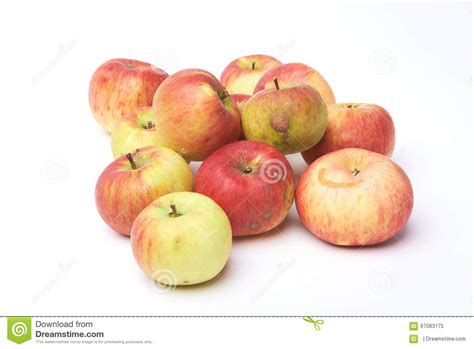apple: (296, 143, 416, 246), (128, 189, 234, 288), (192, 141, 300, 238), (93, 143, 190, 236), (150, 68, 241, 161), (301, 100, 398, 169), (241, 84, 329, 157), (214, 46, 278, 96)
